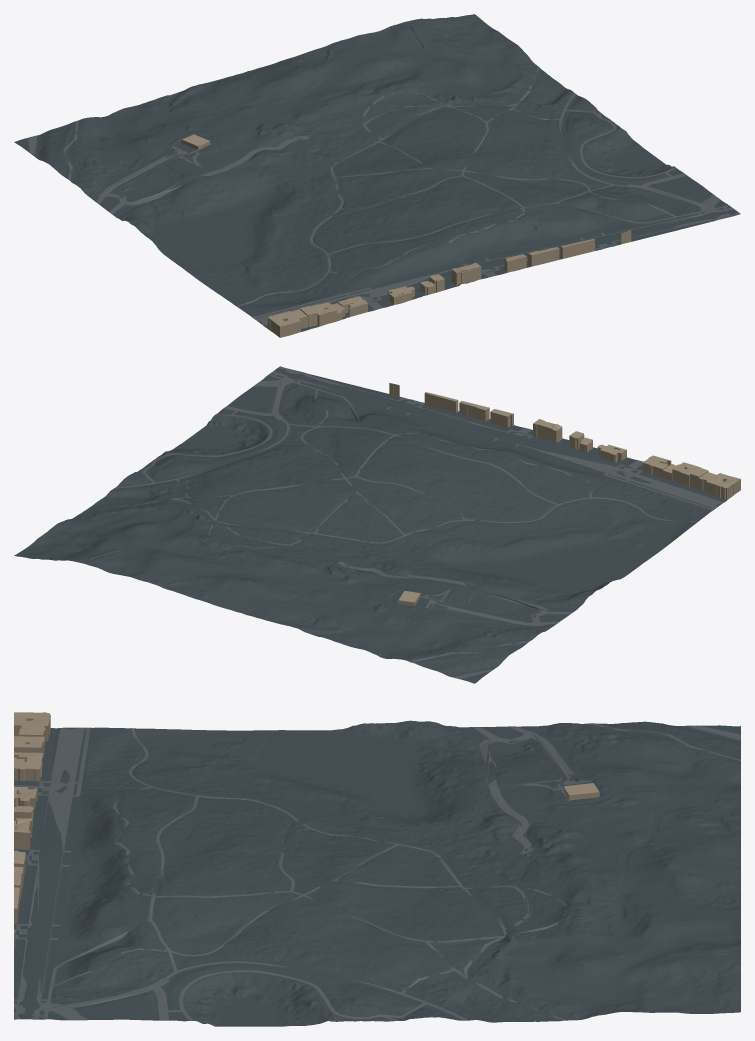
The model's file is epsg26910-1415-10886.lod0.glb.
3 renders of one model, top to bottom at view 1: azimuth 30°, elevation 25°; view 2: azimuth 150°, elevation 25°; view 3: azimuth 270°, elevation 25°, orthographic. The views are drawn at different scales.
Visible parts, largest first — view 1: epsg26910-1415-10886-lod0; view 2: epsg26910-1415-10886-lod0; view 3: epsg26910-1415-10886-lod0.
Part boxes in pixels (x1,y1,x2,y2): epsg26910-1415-10886-lod0: [14, 14, 740, 337]; epsg26910-1415-10886-lod0: [14, 366, 740, 683]; epsg26910-1415-10886-lod0: [14, 712, 740, 1026].
Bounding box in the file's own units: 384 × 22.7 × 384.
